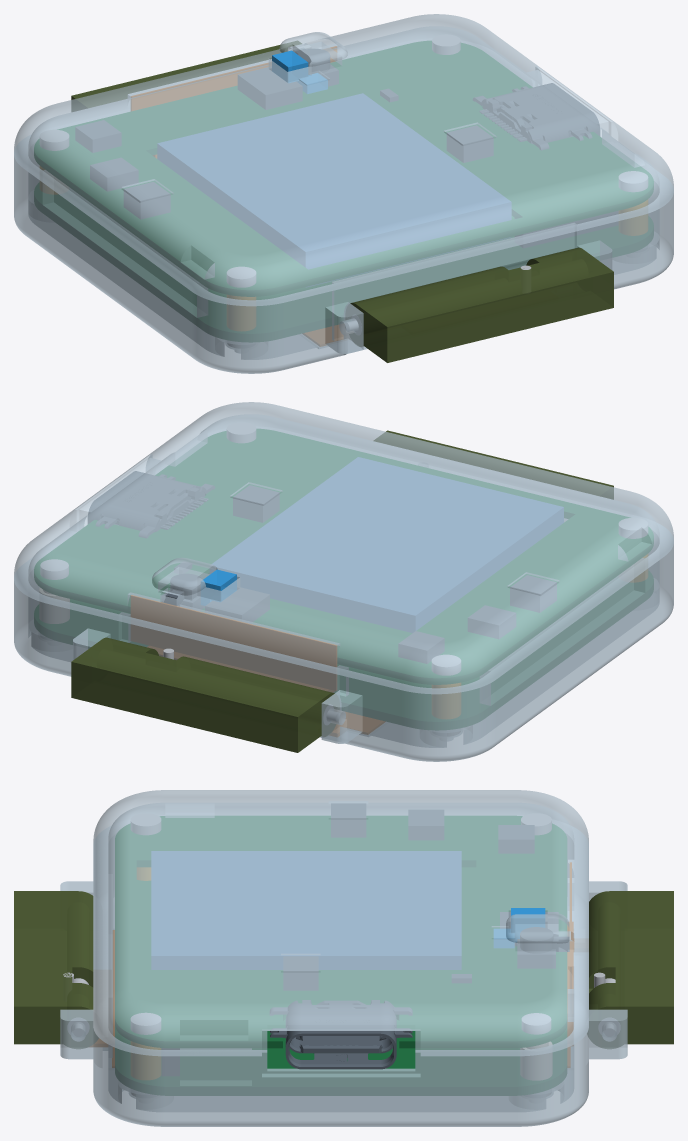
The model's file is assembly.glb.
3 renders of one model, top to bottom at view 1: azimuth 30°, elevation 25°; view 2: azimuth 150°, elevation 25°; view 3: azimuth 270°, elevation 25°, orthographic. The views are drawn at different scales.
Visible parts, largest first — view 1: cover, MCU_board, tray, battery_302025_max, south_woven_strap_loop, D17_board, MCU_USB_J400, north_woven_strap_loop, MCU_SW300, FPC_ANT_2G4, MCU_U12, MCU_U17 (+10 smaller); view 2: cover, MCU_board, tray, battery_302025_max, north_woven_strap_loop, D17_board, FPC_ANT_2G4, MCU_USB_J400, south_woven_strap_loop, MCU_SW300, MCU_U12, MCU_U17 (+9 smaller); view 3: cover, MCU_board, tray, battery_302025_max, D17_board, north_woven_strap_loop, south_woven_strap_loop, MCU_USB_J400, MCU_U17, MCU_U12, switch_plunger, MCU_U14 (+9 smaller).
Part boxes in pixels (x1,y1,x2,y2): cover: (14,14,673,306); MCU_board: (34,41,653,296); tray: (14,135,673,373); battery_302025_max: (157,93,511,286); south_woven_strap_loop: (346,247,613,362); D17_board: (34,183,653,341); MCU_USB_J400: (473,83,599,150); north_woven_strap_loop: (71,41,301,111); MCU_SW300: (238,67,302,109); FPC_ANT_2G4: (131,46,336,110); MCU_U12: (124,182,170,219); MCU_U17: (447,125,493,162); cover: (14,402,673,694); MCU_board: (34,429,653,684); tray: (14,518,673,761); battery_302025_max: (210,457,563,632); north_woven_strap_loop: (71,637,339,752); D17_board: (34,571,653,729); FPC_ANT_2G4: (131,595,336,690); MCU_USB_J400: (88,471,214,538); south_woven_strap_loop: (374,430,613,499); MCU_SW300: (205,587,269,621); MCU_U12: (510,575,556,612); MCU_U17: (233,485,279,522); cover: (93,790,588,1056); MCU_board: (115,816,566,1048); tray: (60,826,627,1126); battery_302025_max: (151,851,461,969); D17_board: (115,867,566,1095); north_woven_strap_loop: (587,891,673,1048); south_woven_strap_loop: (14,891,98,1048); MCU_USB_J400: (270,1000,412,1069); MCU_U17: (283,956,318,990); MCU_U12: (331,803,365,837); switch_plunger: (494,908,545,947); MCU_U14: (408,810,443,839).
Bounding box in the file's own units: 0.046 × 0.0108 × 0.0532.
